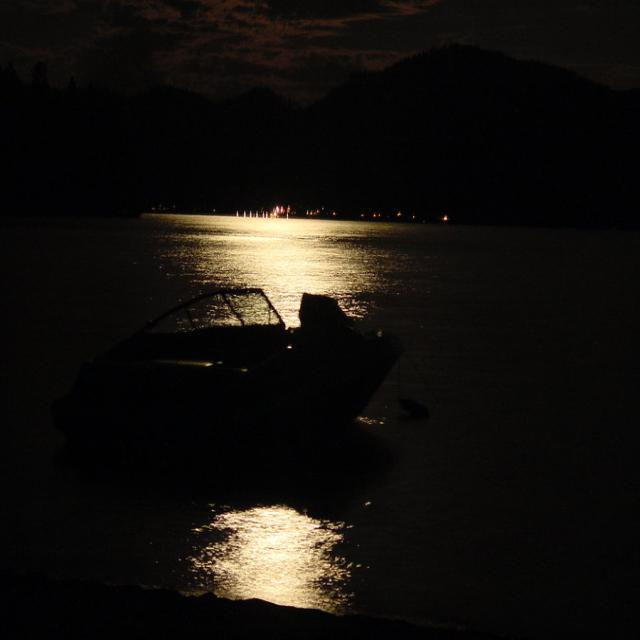Boat: (95, 263, 424, 430)
